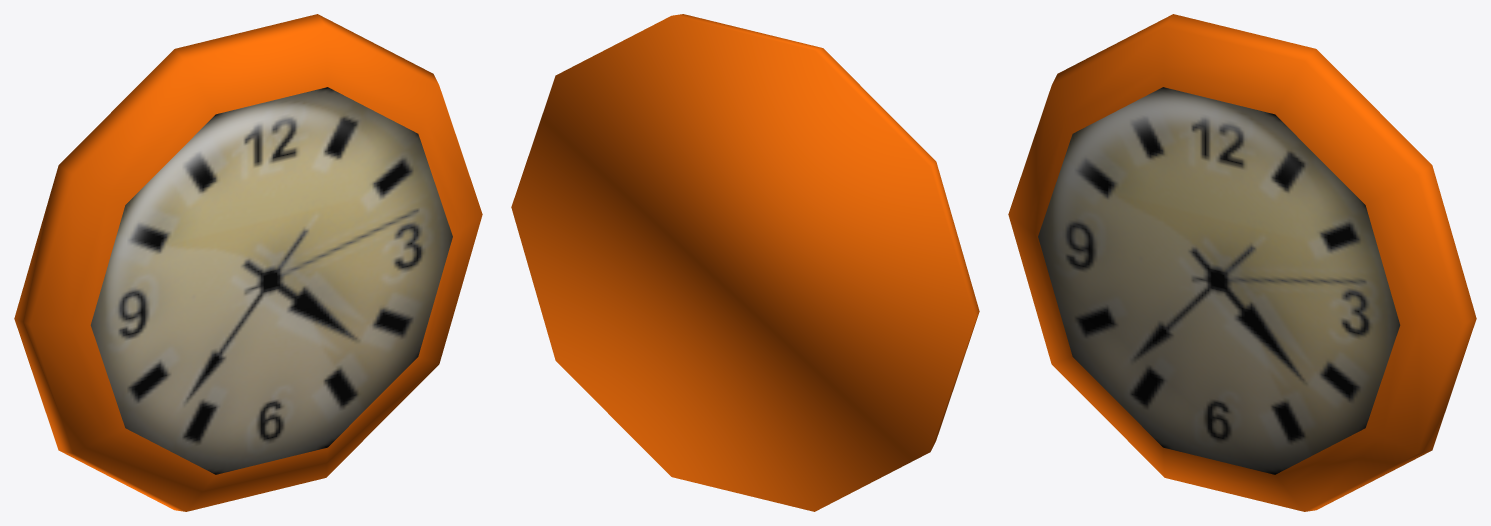
Rendered from Wall_Clock_E.FBX.
The picture shows the model from 3 angles, left to right: view 1: azimuth 30°, elevation 25°; view 2: azimuth 150°, elevation 25°; view 3: azimuth 330°, elevation 25°; orthographic projection.
Visible parts, largest first — view 1: Wall_Clock; view 2: Wall_Clock; view 3: Wall_Clock.
Part boxes in pixels (box(x1,y1,x2,y2)): Wall_Clock: box(14, 14, 482, 511); Wall_Clock: box(511, 14, 979, 511); Wall_Clock: box(1008, 14, 1476, 511).
Bounding box in the file's own units: 130 × 124 × 12.52.
